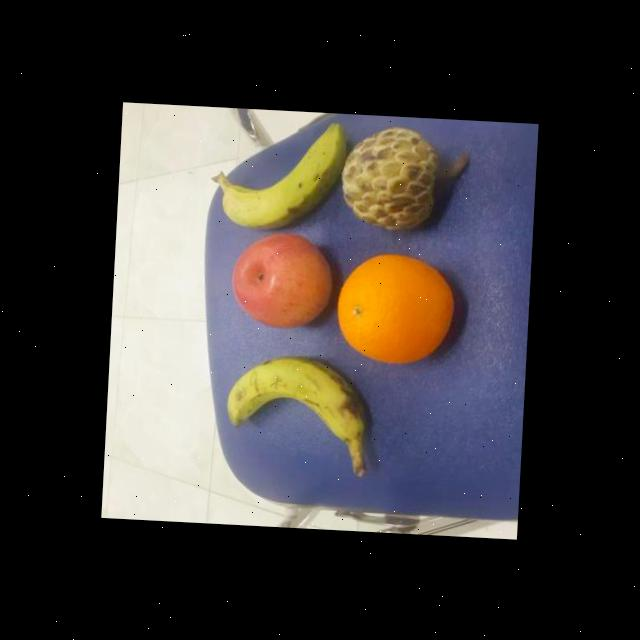Sakya fruit: (338, 121, 442, 233)
apple: (227, 228, 337, 334)
banana: (217, 112, 350, 234), (222, 350, 369, 440)
orange: (333, 252, 459, 366)
